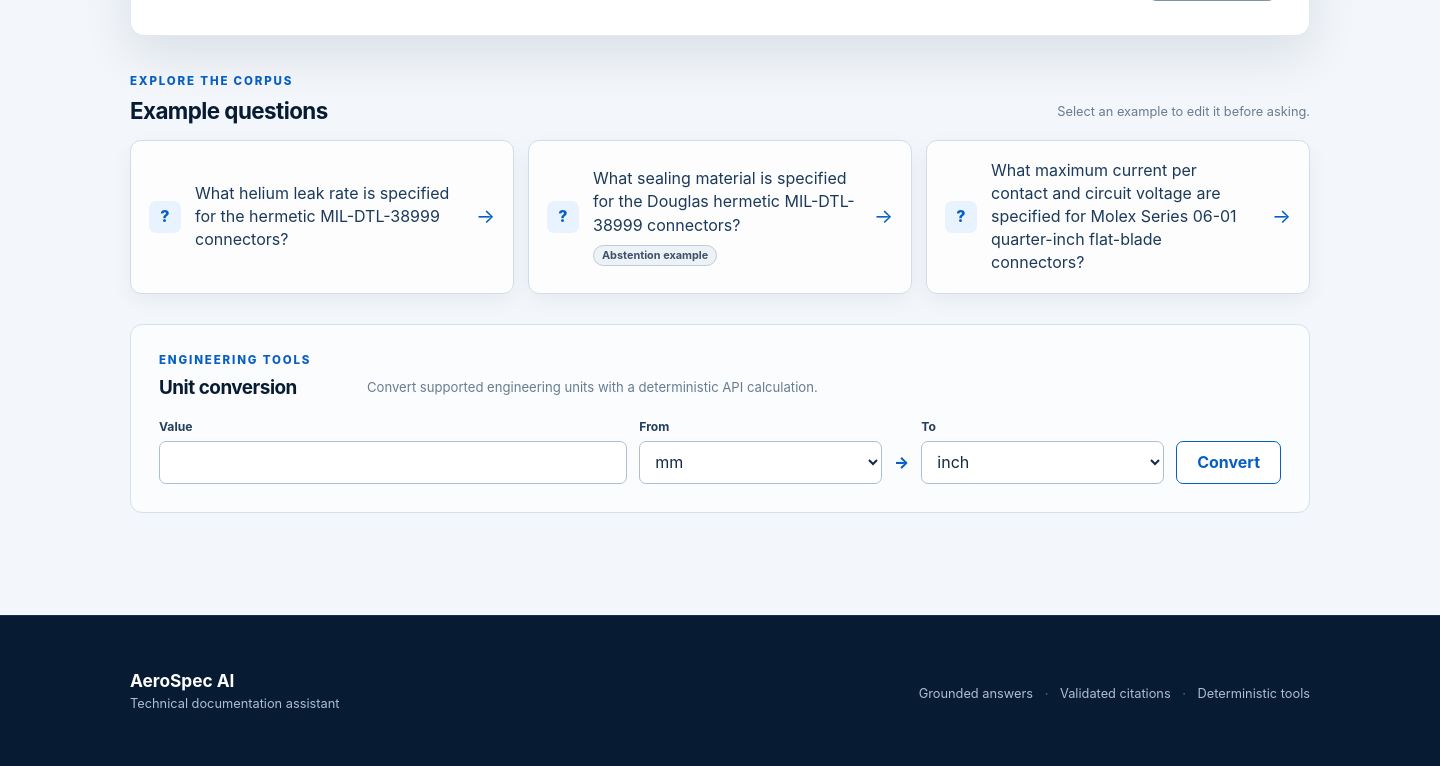
Test case: App › adapte la destination lorsque la famille de l’unité source change
The width and height of the screenshot is (1440, 766).
(page scrolled)
Select "°C" in the dropdown labelled "From": {"x": 761, "y": 462} [639,441,882,484]
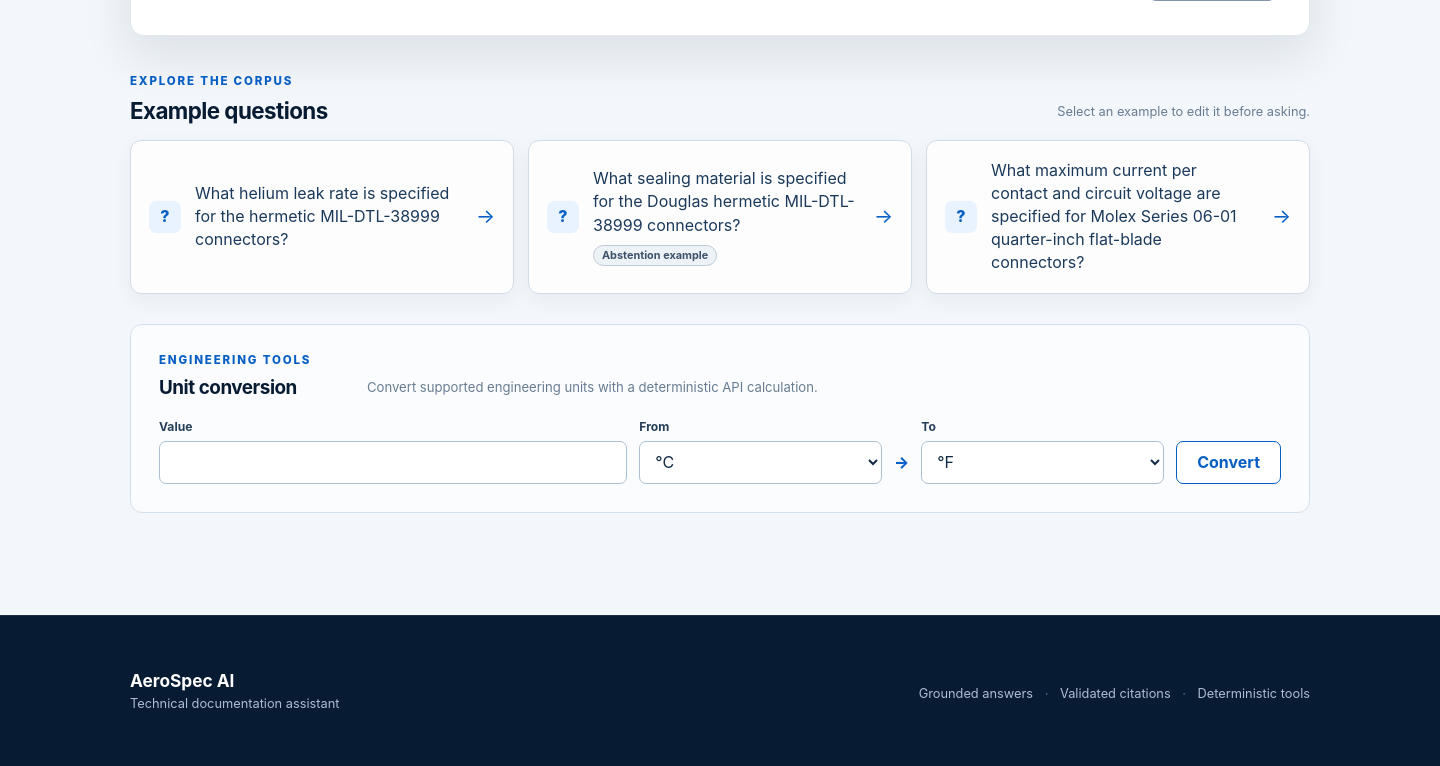
Check: the option "inch" is not shown
Check: the dropdown labelled "To" shows "°F", box [921,441,1164,484]
